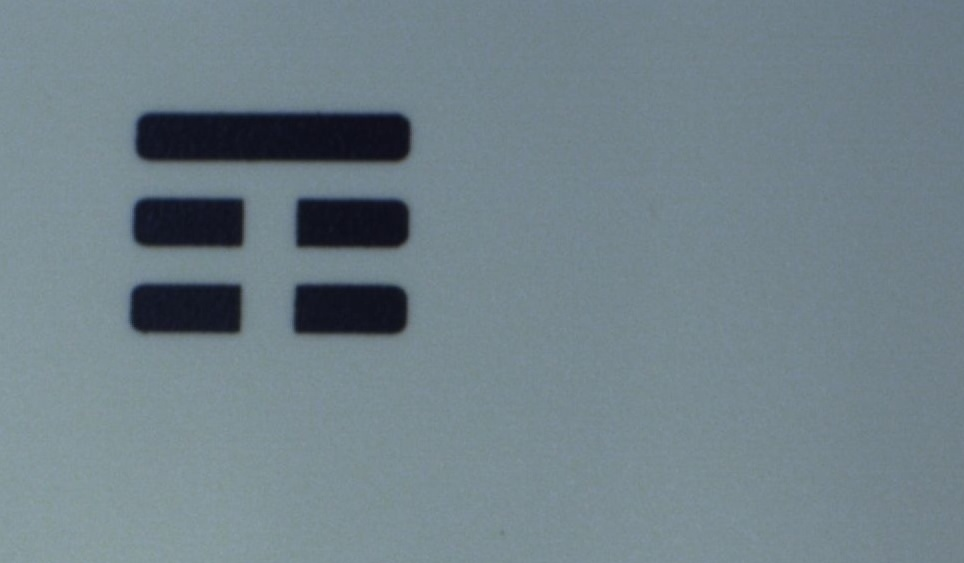BV_F6600PTIM: (115, 96, 435, 360)
